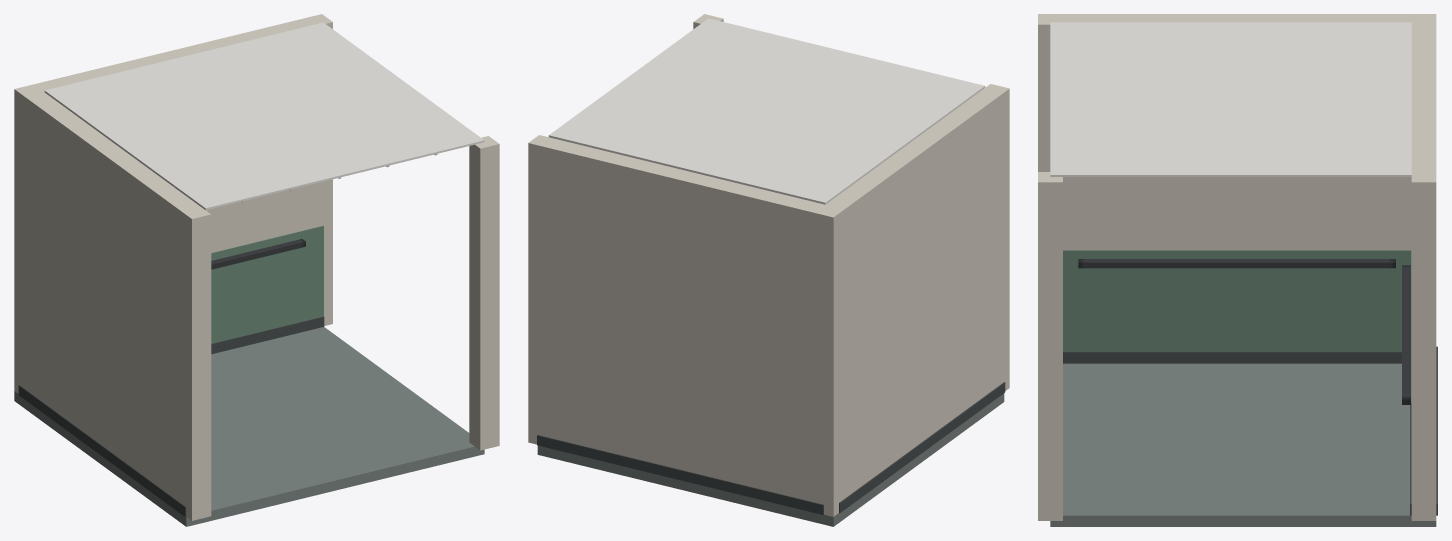
File: MOD_Corridor_Corner_L.glb
3 renders of one model, left to right at view 1: azimuth 30°, elevation 25°; view 2: azimuth 150°, elevation 25°; view 3: azimuth 270°, elevation 25°, orthographic. The views are drawn at different scales.
Parts seen in each view (by area): view 1: MOD_Corridor_Corner_L_Mesh; view 2: MOD_Corridor_Corner_L_Mesh; view 3: MOD_Corridor_Corner_L_Mesh.
Boxes of the visible parts, box(x1,y1,x2,y2) form: MOD_Corridor_Corner_L_Mesh: box(14, 14, 499, 526); MOD_Corridor_Corner_L_Mesh: box(528, 14, 1009, 526); MOD_Corridor_Corner_L_Mesh: box(1038, 14, 1437, 526).
Size of what is drawn, in the model's own units: 3.21 by 3.12 by 3.21.
